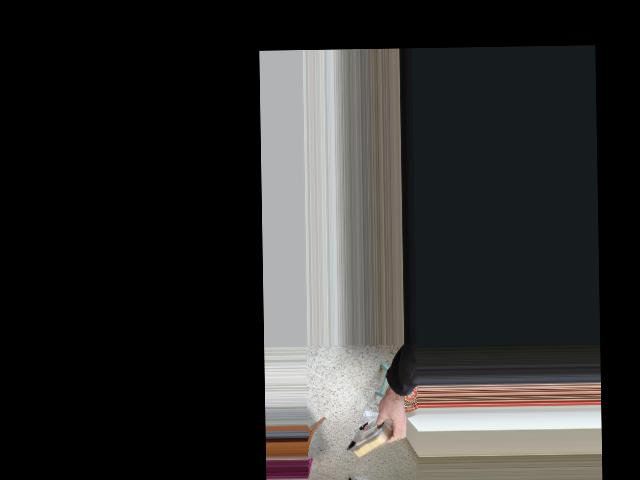cheese: (337, 405, 414, 467)
